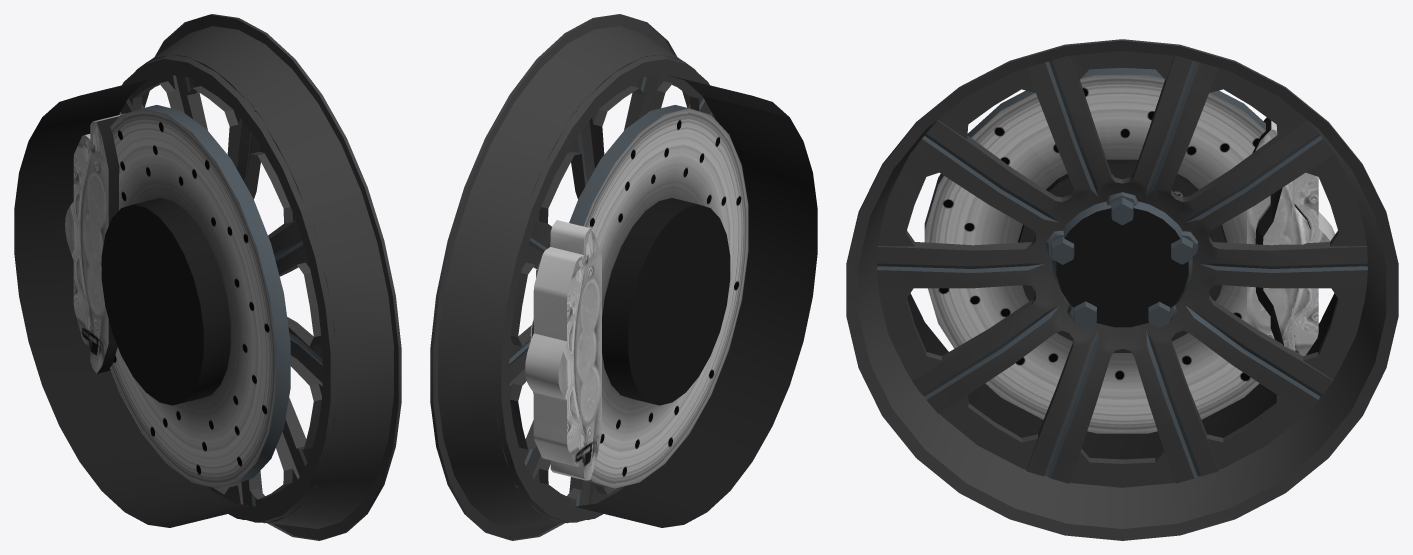
The picture shows the model from 3 angles, left to right: view 1: azimuth 30°, elevation 25°; view 2: azimuth 150°, elevation 25°; view 3: azimuth 270°, elevation 25°; orthographic projection. The views are drawn at different scales.
Parts seen in each view (by area): view 1: 141, BrakeDisc, Caliper; view 2: 141, BrakeDisc, Caliper; view 3: 141, BrakeDisc, Caliper.
Part boxes in pixels (<box>): 141: <box>14,14,401,540</box>; BrakeDisc: <box>101,105,290,488</box>; Caliper: <box>65,113,125,373</box>; 141: <box>430,14,817,540</box>; BrakeDisc: <box>569,105,748,488</box>; Caliper: <box>525,220,601,480</box>; 141: <box>846,39,1398,540</box>; BrakeDisc: <box>924,68,1265,433</box>; Caliper: <box>1247,117,1335,355</box>.
Bounding box in the file's own units: 0.1631 × 0.5336 × 0.5336.
